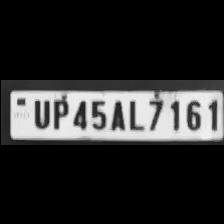1: (164, 96, 182, 132), (203, 96, 221, 132)
4: (68, 96, 88, 130)
5: (87, 95, 107, 129)
6: (181, 96, 203, 130)
7: (144, 96, 164, 130)
A: (108, 96, 127, 130)
L: (124, 96, 144, 130)
P: (48, 96, 68, 130)
U: (28, 96, 50, 128)
